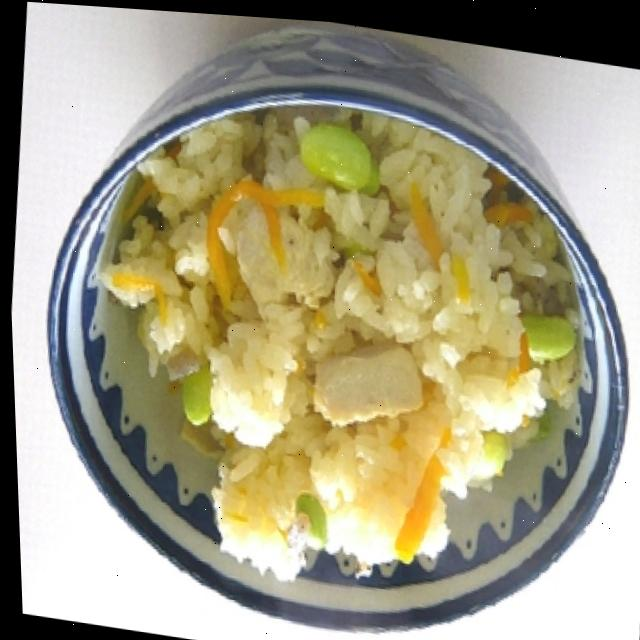米饭主食: (71, 86, 618, 611)
